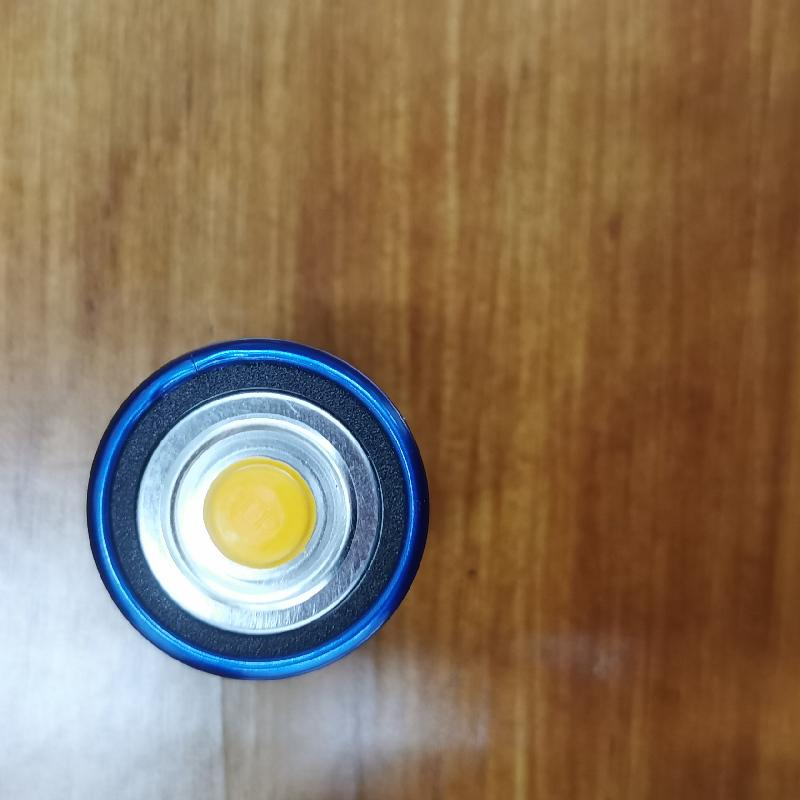battery: (80, 335, 434, 683)
